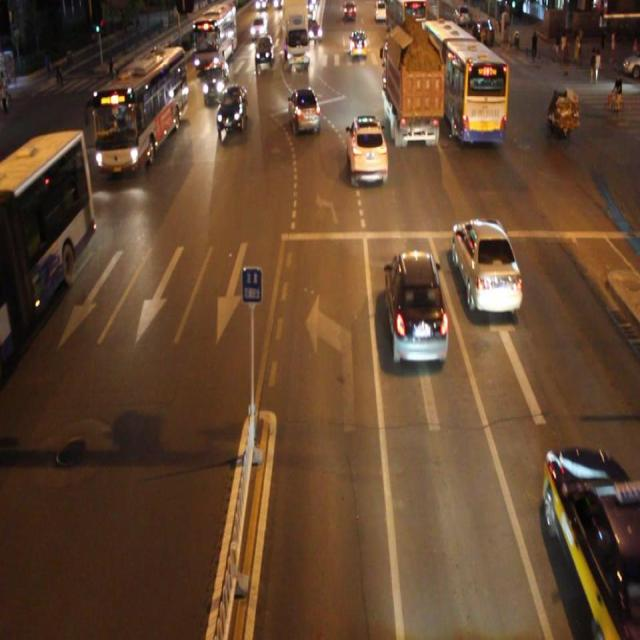bus: (383, 29, 438, 146)
car: (542, 445, 640, 640), (385, 250, 447, 363), (452, 217, 521, 313), (345, 114, 388, 187), (215, 82, 248, 140), (288, 86, 320, 134), (202, 57, 230, 111)
van: (1, 130, 94, 375), (93, 45, 185, 174), (422, 21, 507, 144)
